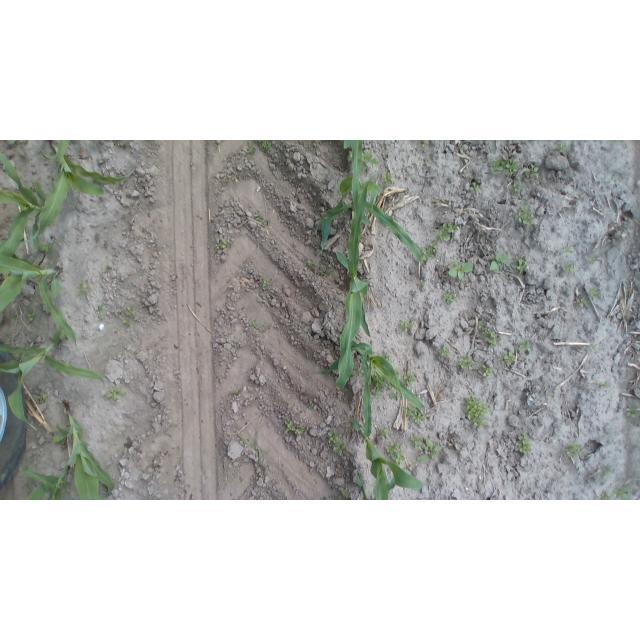Maize: (23, 140, 135, 240), (1, 327, 106, 431), (350, 360, 424, 501), (315, 179, 423, 261), (337, 174, 375, 390), (314, 337, 426, 409), (0, 257, 78, 350), (49, 400, 116, 500), (0, 149, 52, 258), (344, 140, 372, 226), (18, 464, 71, 501), (355, 472, 371, 501)
Weeds: (465, 395, 492, 428), (239, 434, 265, 467), (416, 439, 440, 462), (369, 371, 388, 398), (448, 261, 473, 281), (493, 157, 519, 175), (515, 204, 535, 226), (328, 432, 347, 455), (387, 442, 405, 466), (403, 407, 425, 426), (436, 223, 459, 241), (490, 254, 511, 273), (421, 242, 440, 261), (483, 329, 501, 347), (103, 386, 125, 400), (518, 432, 532, 454), (362, 152, 379, 170), (39, 241, 55, 257), (499, 351, 516, 366), (513, 257, 528, 274), (455, 355, 473, 369), (255, 210, 269, 226), (615, 487, 632, 500), (525, 164, 540, 178), (566, 443, 580, 457), (410, 435, 423, 449), (627, 405, 640, 419), (400, 319, 412, 332), (520, 340, 533, 352), (444, 292, 457, 304), (510, 182, 523, 194), (556, 140, 568, 153), (403, 374, 415, 386), (78, 282, 89, 295), (285, 419, 296, 431), (483, 365, 494, 377), (53, 434, 66, 444), (441, 347, 452, 358), (247, 141, 255, 156), (383, 172, 392, 185), (28, 181, 38, 192), (602, 492, 615, 500), (380, 429, 389, 440), (470, 183, 481, 192), (294, 426, 304, 435), (577, 298, 587, 307), (221, 238, 230, 248), (390, 390, 401, 398), (563, 263, 574, 271), (37, 395, 46, 404), (262, 140, 271, 149), (590, 287, 598, 297), (564, 245, 572, 255), (358, 365, 365, 376), (232, 388, 243, 395), (601, 381, 610, 389), (99, 305, 106, 315), (250, 320, 261, 326), (127, 307, 135, 315), (123, 316, 131, 324), (385, 353, 393, 361), (28, 313, 35, 322), (308, 260, 315, 269), (589, 257, 597, 264), (263, 278, 270, 286), (320, 270, 330, 275), (343, 491, 350, 498), (478, 321, 485, 328), (423, 141, 430, 148), (547, 393, 554, 400), (394, 368, 400, 376), (605, 467, 611, 475), (420, 279, 426, 286), (104, 266, 111, 272), (19, 149, 25, 156), (320, 260, 328, 265), (590, 344, 596, 350), (215, 243, 221, 249), (18, 140, 27, 144), (309, 402, 314, 409), (332, 496, 340, 500), (388, 383, 393, 389), (635, 219, 640, 225), (579, 451, 583, 456), (527, 490, 532, 494), (616, 141, 621, 144), (349, 157, 352, 162)
